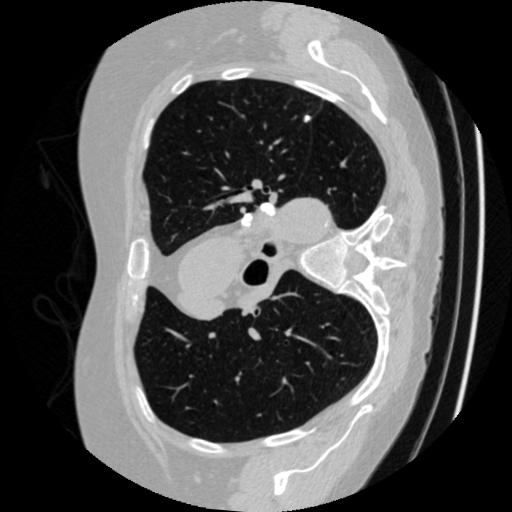nodule: (299, 113, 314, 128)
